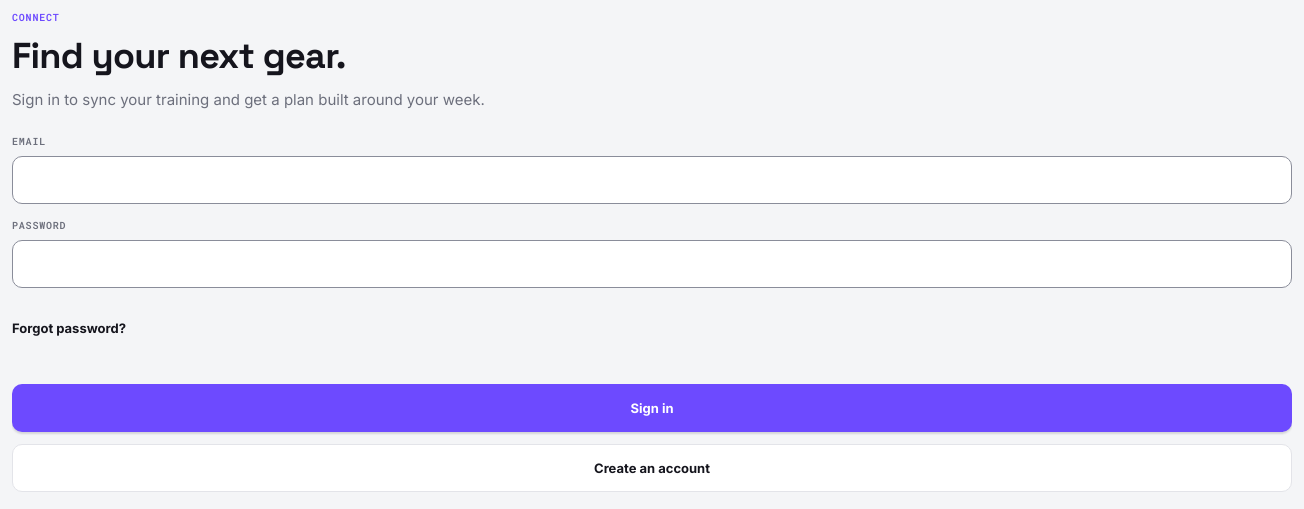
Test: LoginForm › disables the submit button while the request is in flight
Type "alex@stridevolt.test" into the field labelled "Email" at [652, 180], box top-left (12, 156), bottom-right (1292, 204)
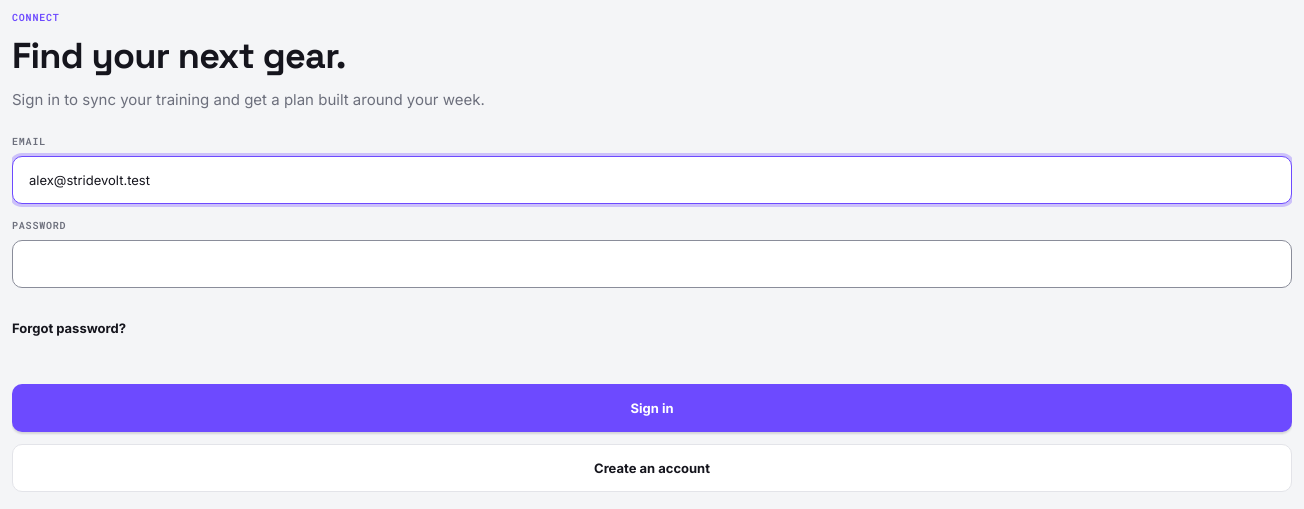
Type "correct-horse" into the password field labelled "Password" at [652, 264], box top-left (12, 240), bottom-right (1292, 288)
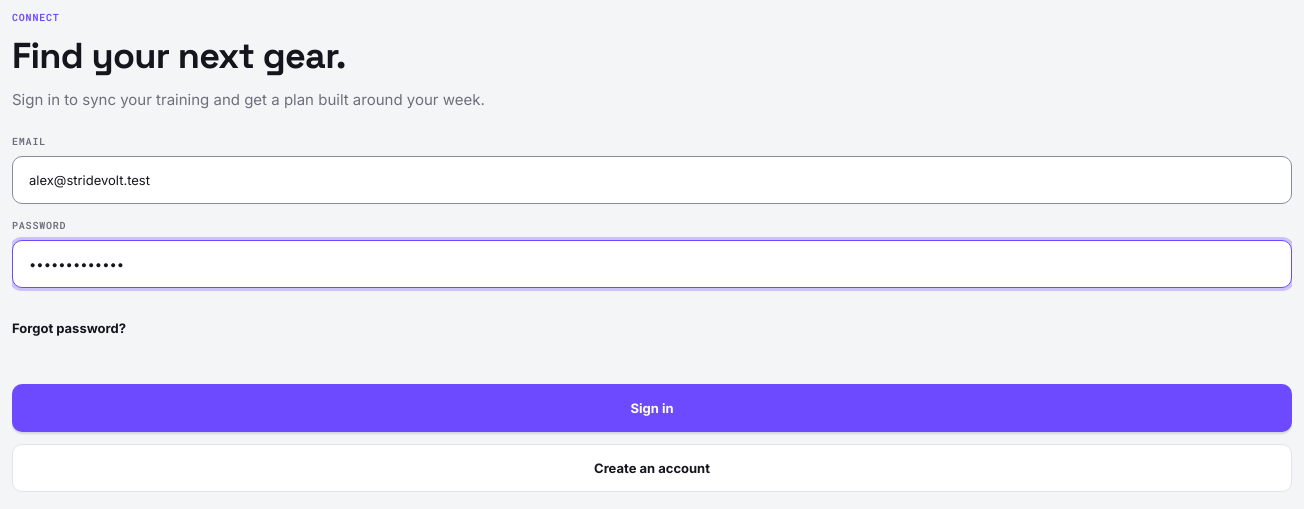
Click the button "Sign in" at [652, 408], box top-left (12, 384), bottom-right (1292, 432)
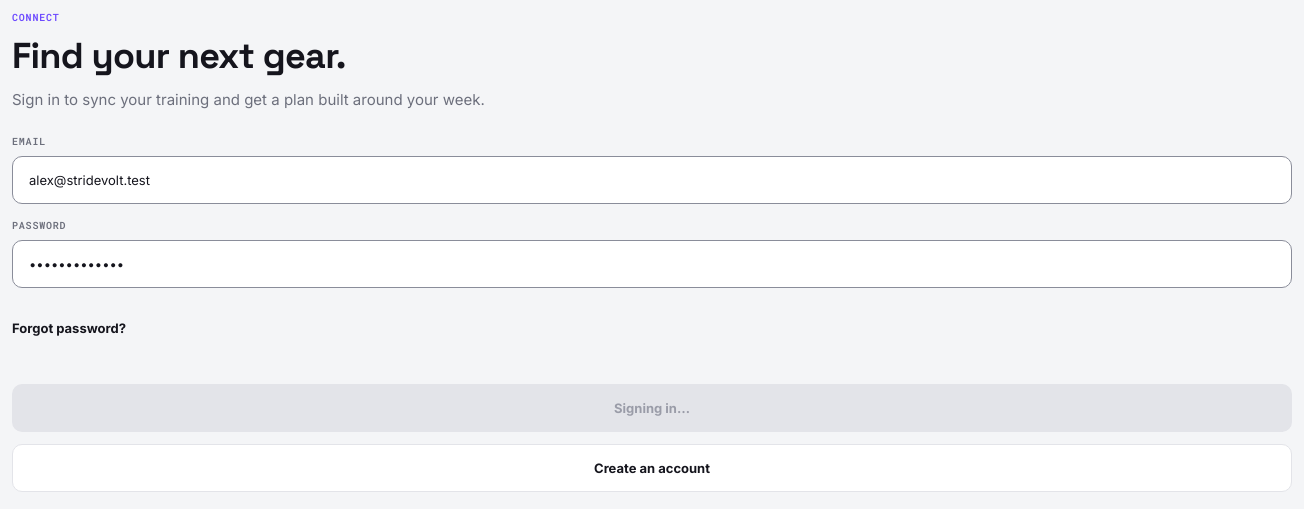
Now the button "Signing in…" is disabled, box top-left (12, 384), bottom-right (1292, 432)
